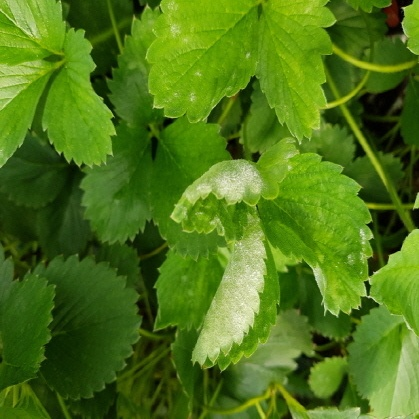Powdery_Leaf: (143, 5, 259, 418), (256, 100, 375, 283), (191, 47, 280, 217), (170, 183, 263, 259)
